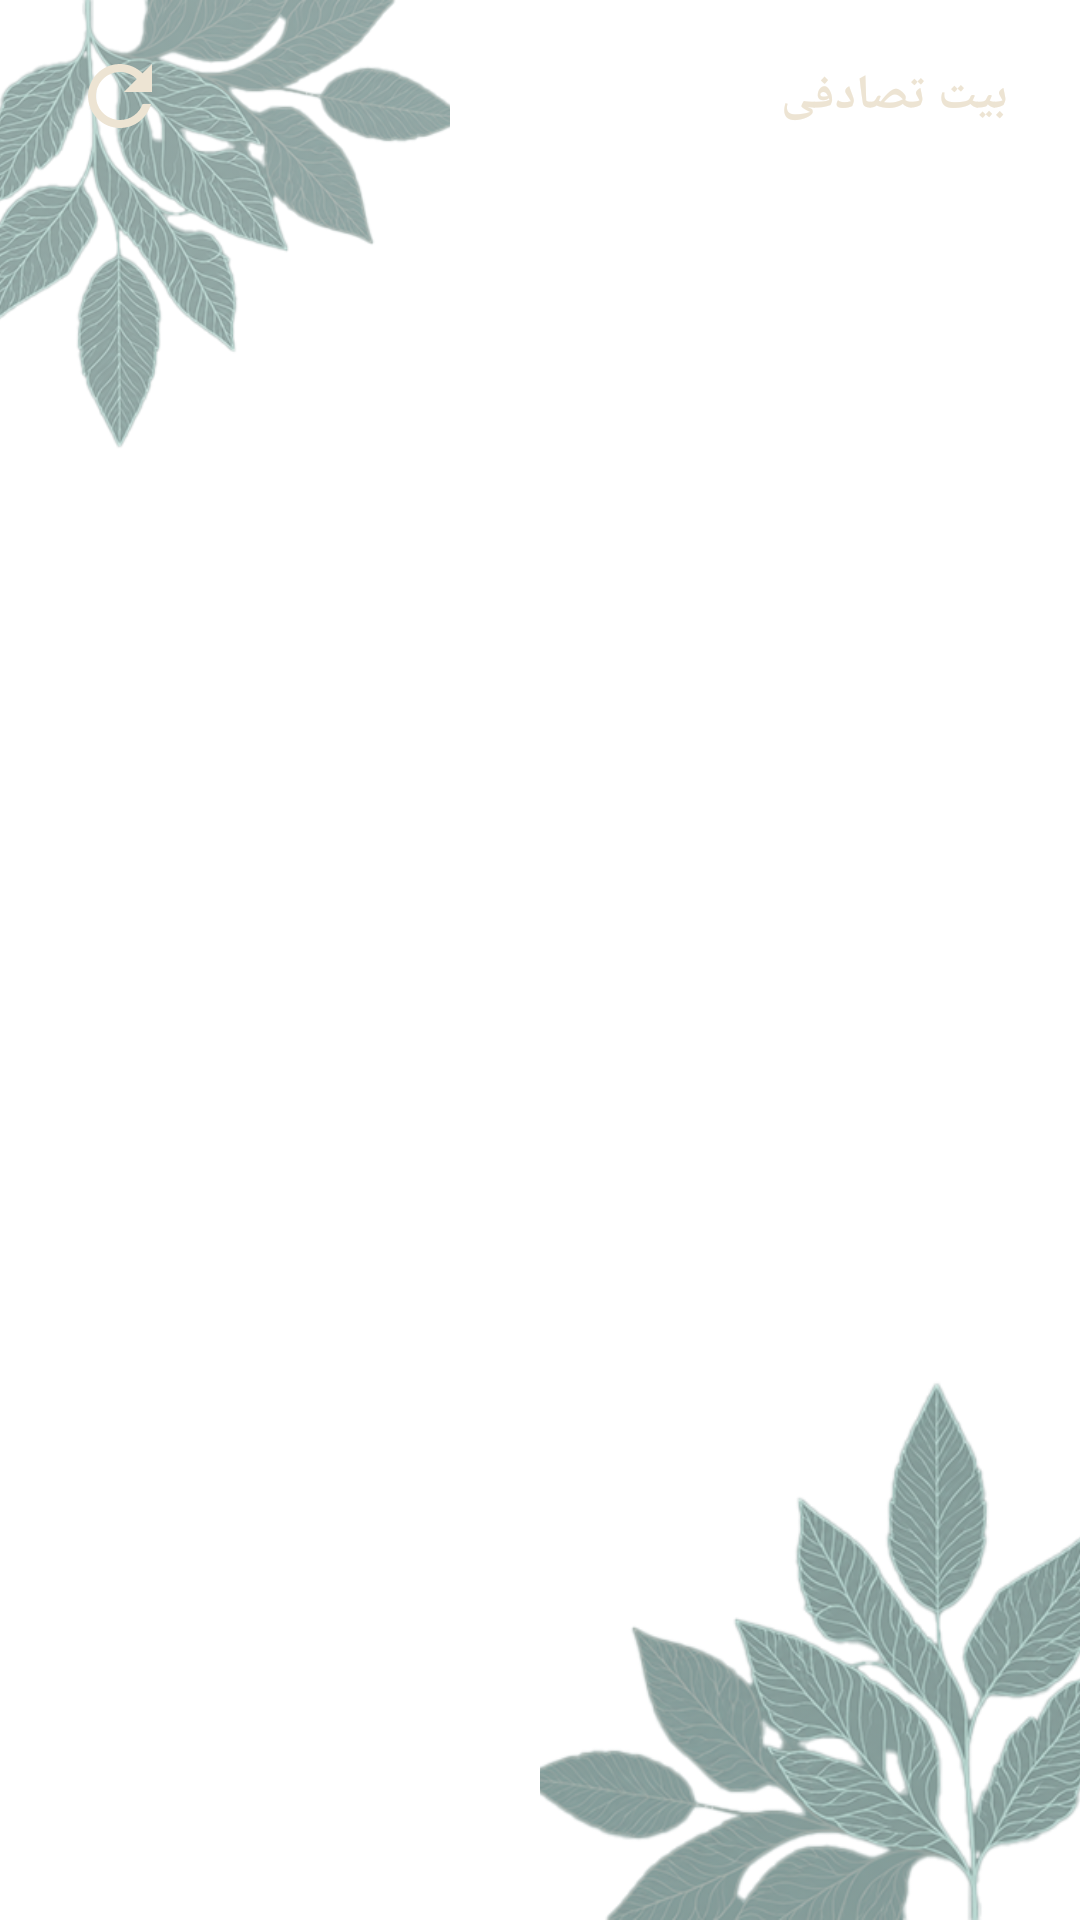

Icons on this 1080 x 1920 Android screen, each with the point to tap as point (x, y):
بیت جدید: point (120, 96)
